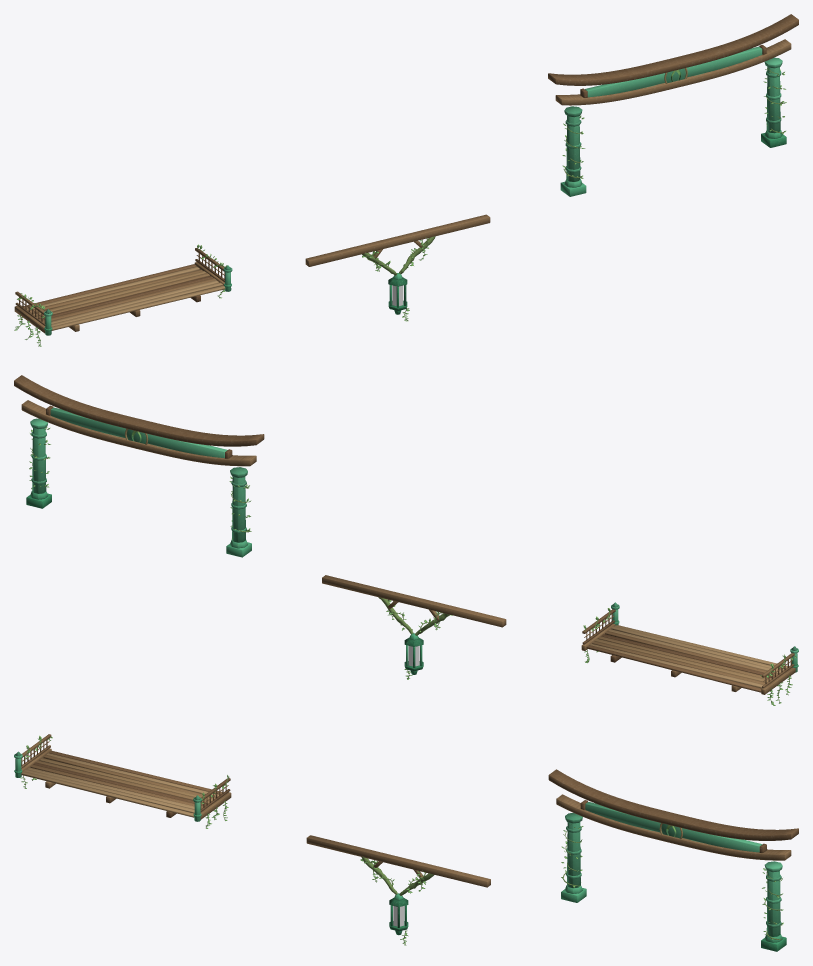
The model's file is JadeBridge.fbx.
The picture shows the model from 3 angles, top to bottom: view 1: azimuth 30°, elevation 25°; view 2: azimuth 150°, elevation 25°; view 3: azimuth 330°, elevation 25°; orthographic projection.
Parts seen in each view (by area): view 1: JadeGate, JadeDeck, JadeSupport; view 2: JadeGate, JadeDeck, JadeSupport; view 3: JadeGate, JadeDeck, JadeSupport.
Part boxes in pixels (left/top/right/bottom): JadeGate: left=548, top=14, right=798, bottom=196; JadeDeck: left=14, top=244, right=232, bottom=346; JadeSupport: left=305, top=214, right=490, bottom=321; JadeGate: left=14, top=375, right=264, bottom=557; JadeDeck: left=581, top=602, right=798, bottom=705; JadeSupport: left=322, top=575, right=506, bottom=679; JadeGate: left=548, top=769, right=798, bottom=951; JadeDeck: left=14, top=734, right=231, bottom=828; JadeSupport: left=306, top=835, right=490, bottom=945.
Bounding box in the file's own units: 168 × 43.4 × 12.83.
2 materials, 1 textured.
